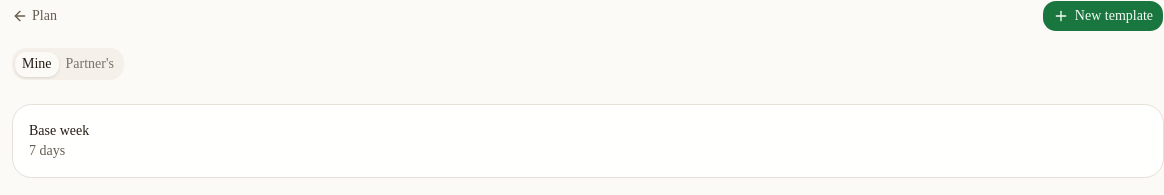
Scenario: TemplatesPage › drops the partner tab, and shows my templates again, when the partner unlinks while it is open
Click the tab "Partner's": (90, 64) top-left (59, 52), bottom-right (121, 76)
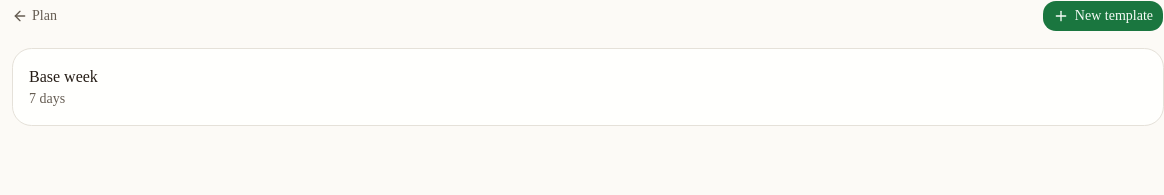
expect the link "Base week 7 days" is shown: met, box top-left (29, 68), bottom-right (98, 106)
expect the tab is gone: met
